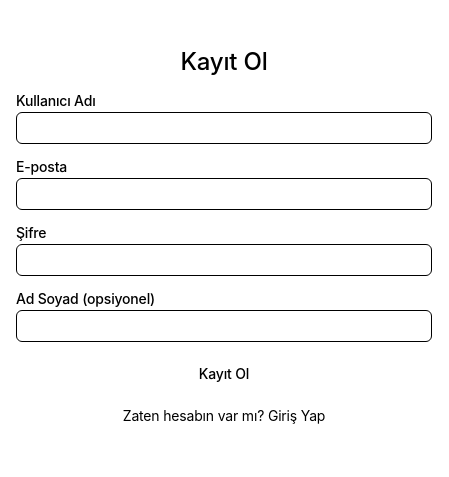
Test: RegisterPage › geçersiz karakter içeren kullanıcı adında hata göstermeli
In the field labelled "Kullanıcı Adı": (224, 128) [16, 112, 432, 144], type "test user!"
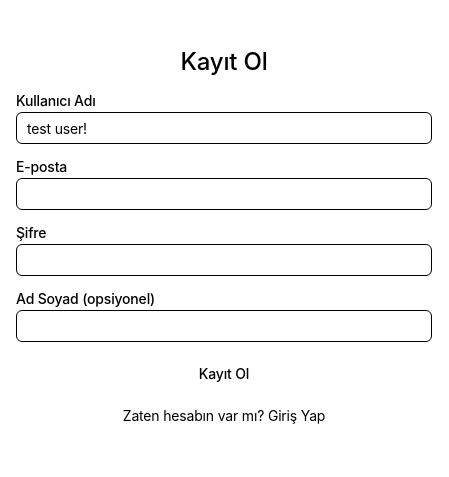
Click the button "Kayıt Ol": (224, 374) [16, 358, 432, 390]
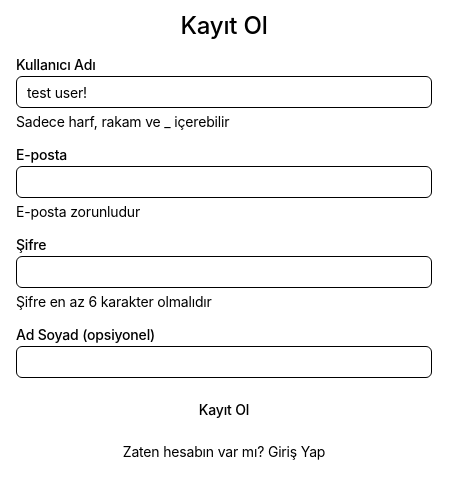
expect the text "Sadece harf, rakam ve _ içerebilir" is shown: met, box [16, 113, 229, 130]
